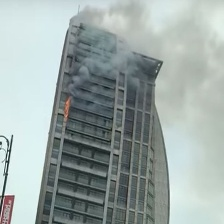fire: (60, 94, 74, 126)
smoke: (68, 1, 222, 87)
